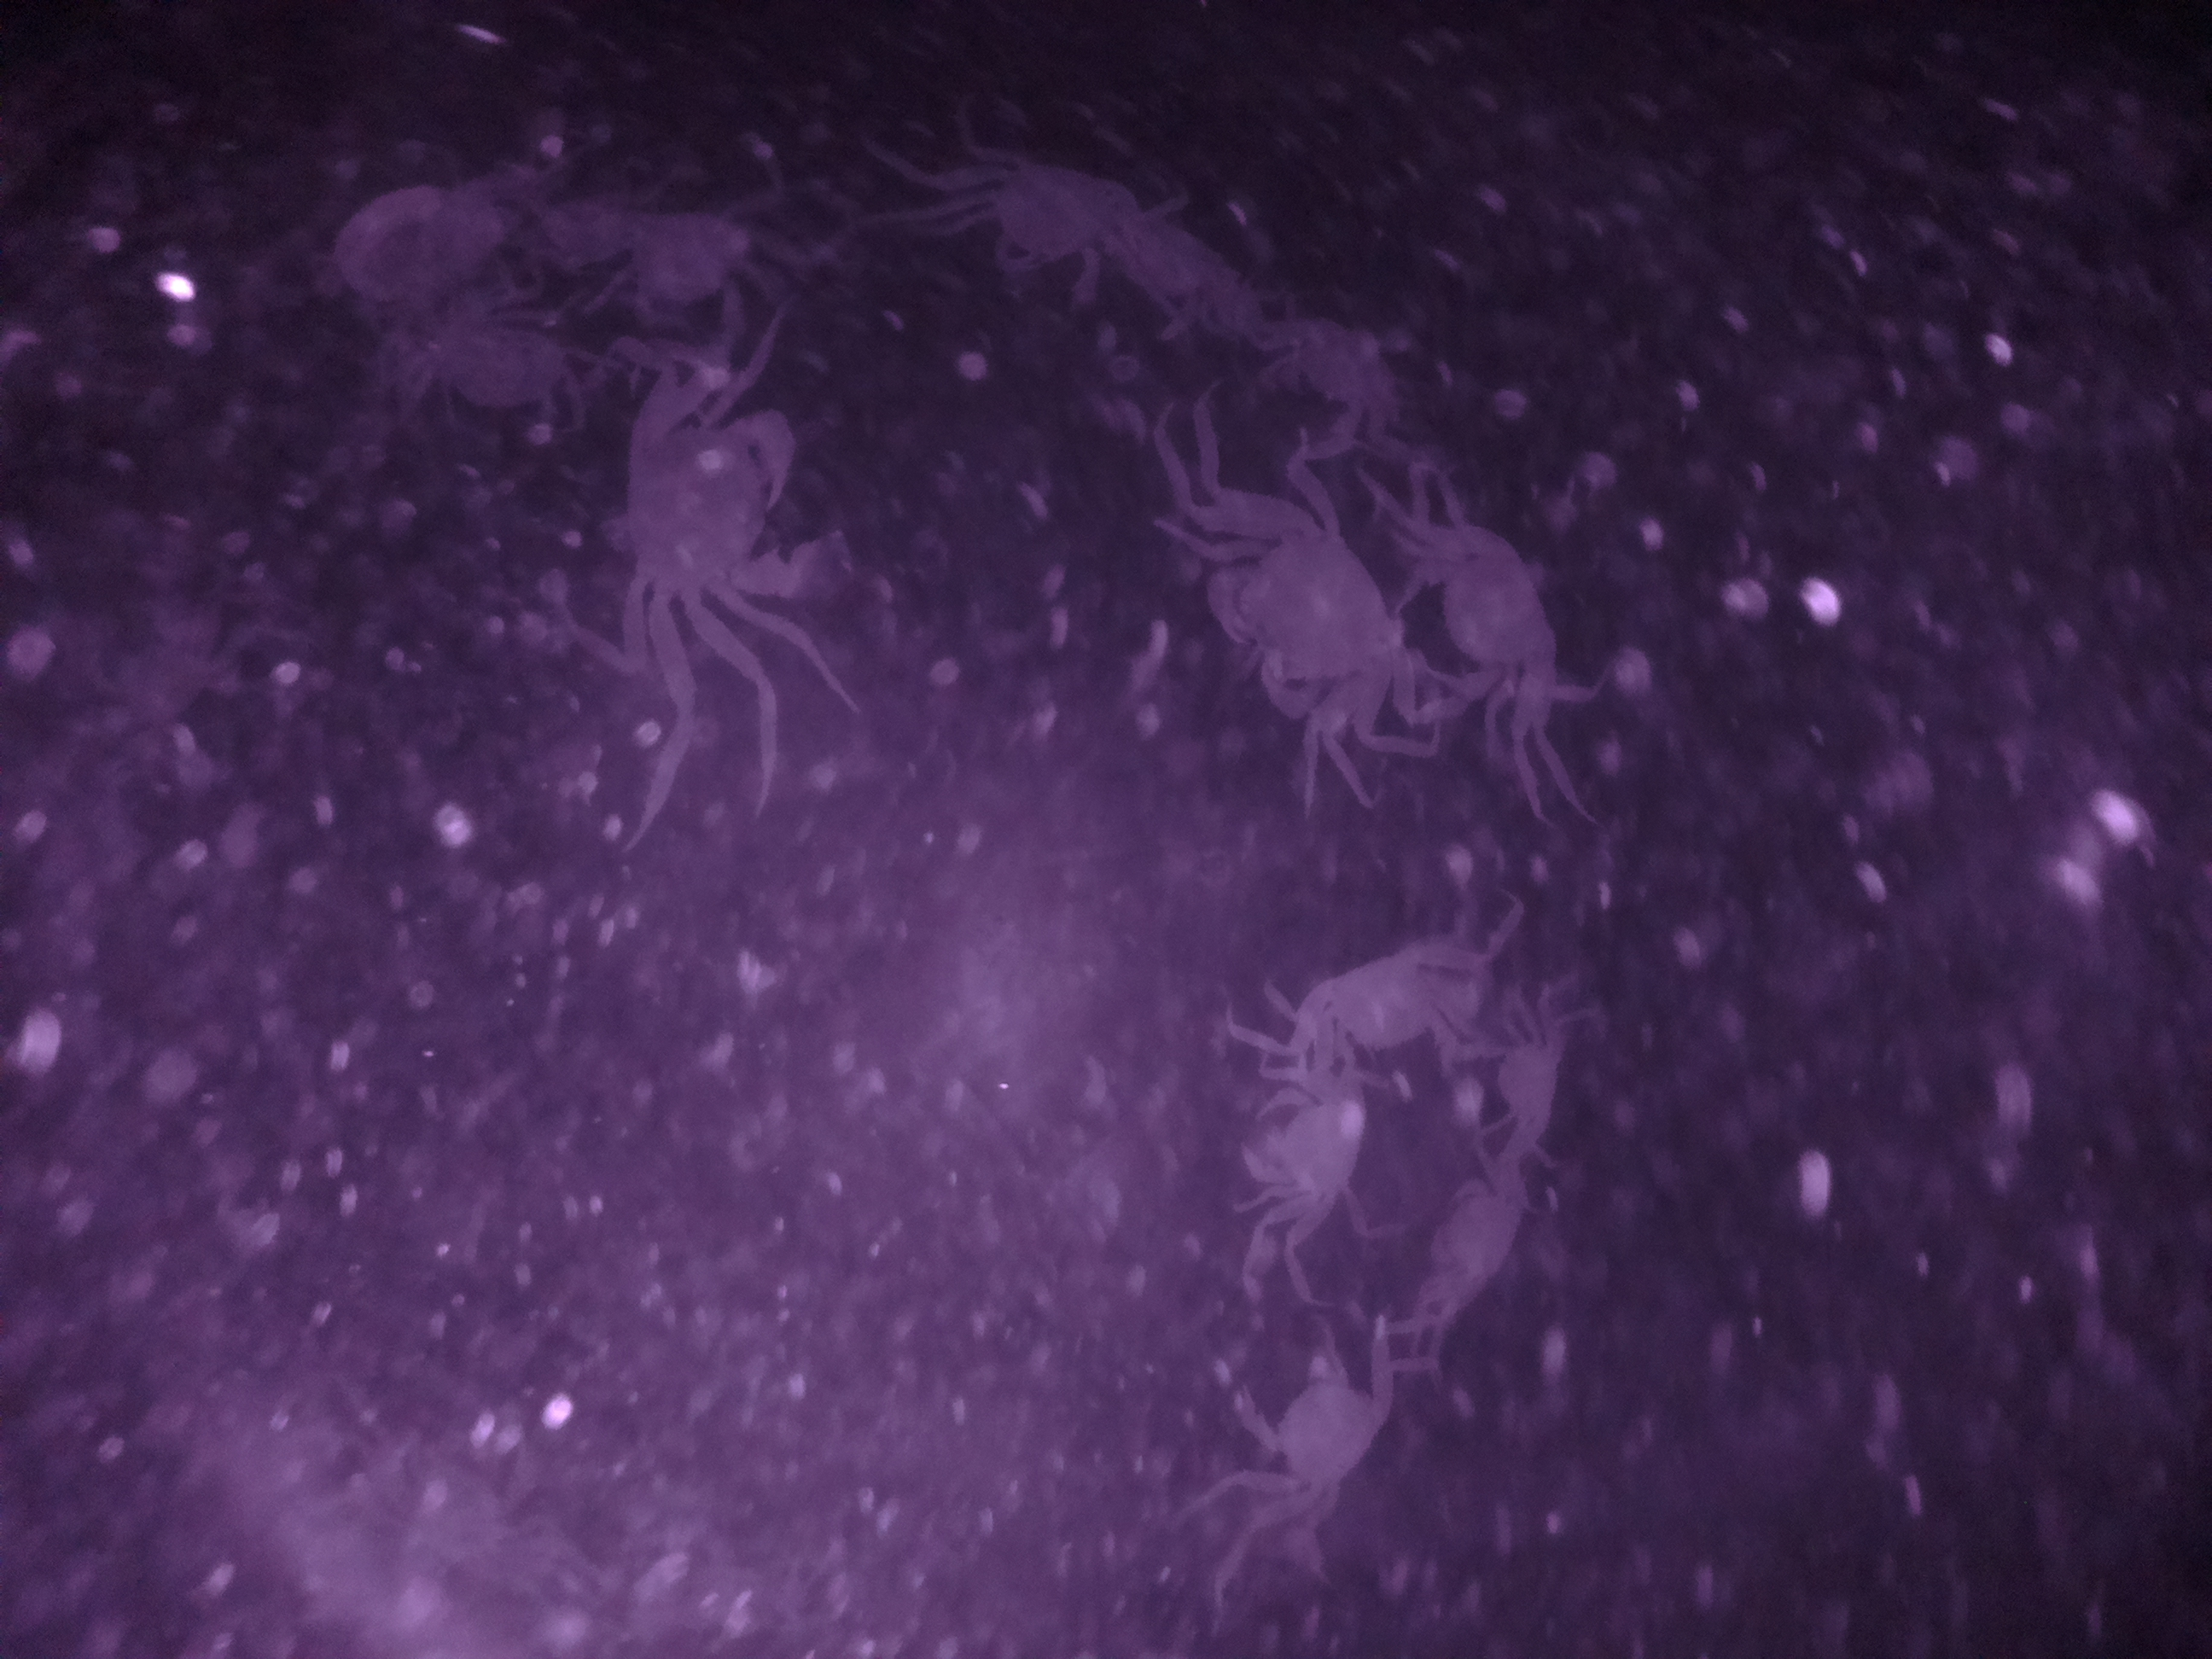Crab: (603, 364, 855, 647), (1184, 458, 1423, 748), (1399, 500, 1588, 706), (946, 129, 1170, 284), (1226, 1314, 1383, 1534), (1216, 1063, 1392, 1239), (1287, 931, 1475, 1073)
